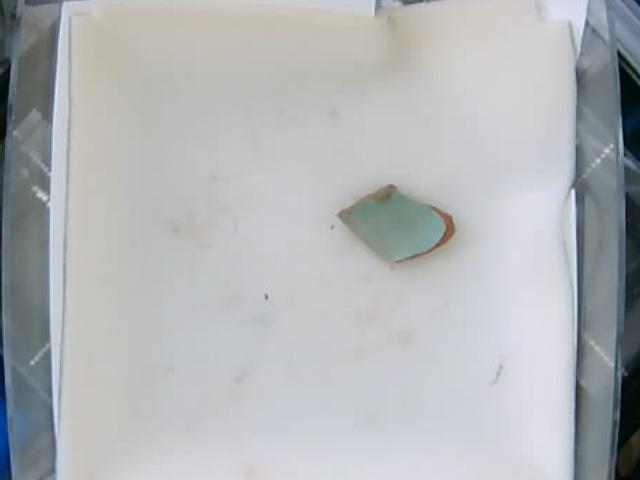China: (341, 183, 456, 261)
